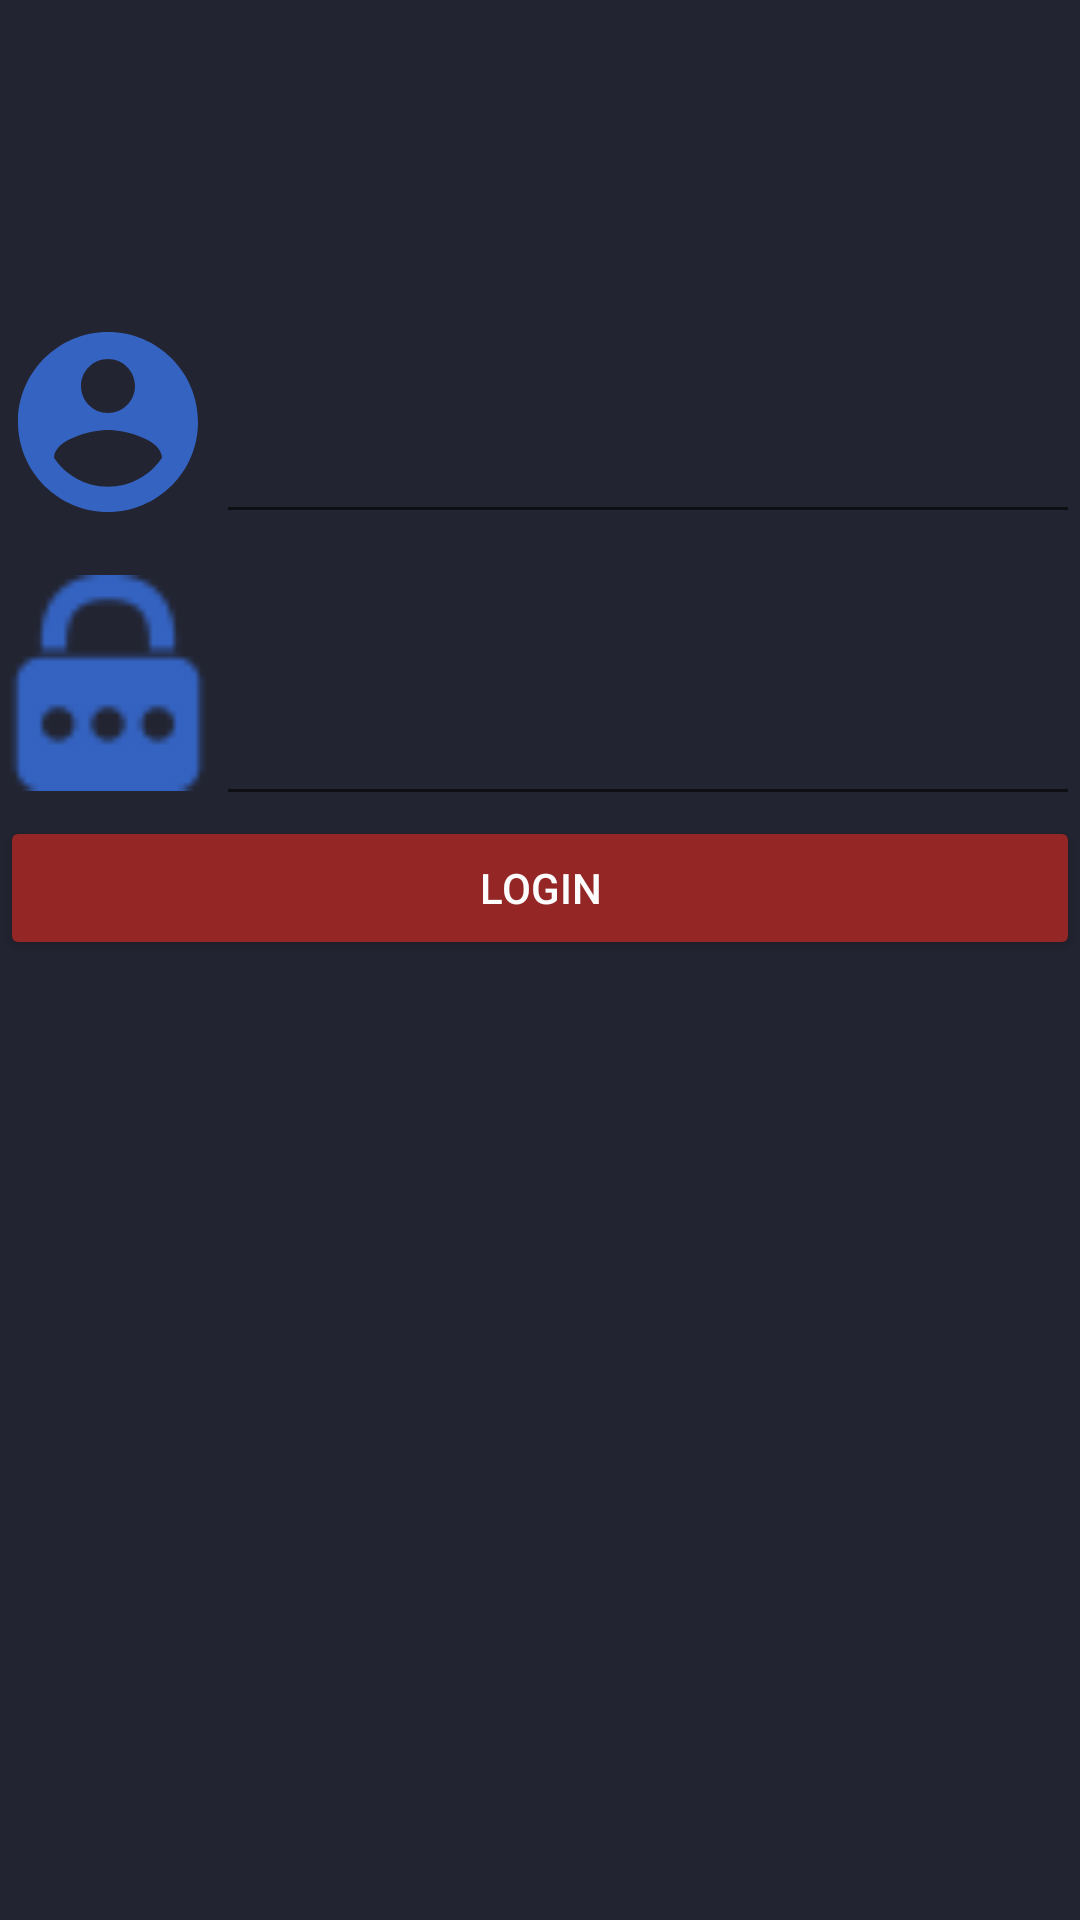

Icon click points for this 1080 × 1920 phone screenshot, format point (x, y):
passw: point (108, 683)
